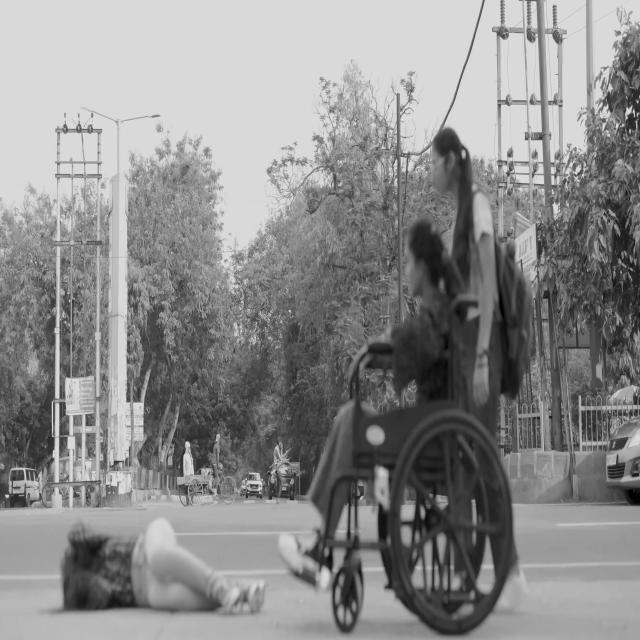wheelchairs: (292, 293, 515, 636)
